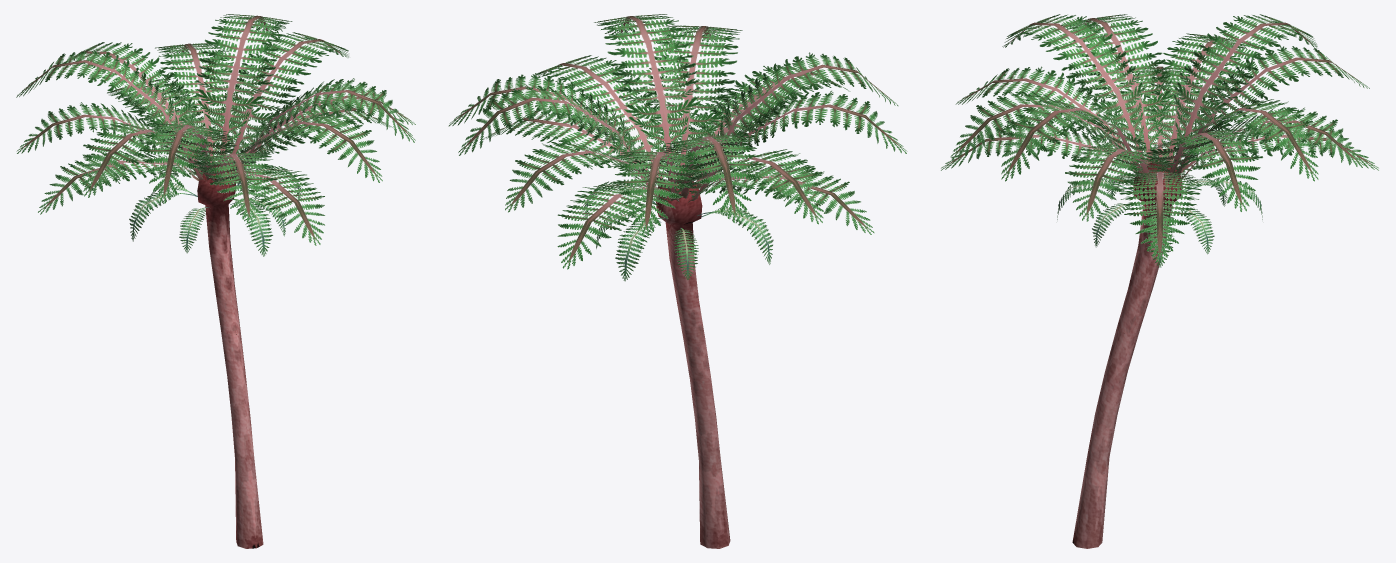
Rendered from FernTree.fbx.
The picture shows the model from 3 angles, left to right: view 1: azimuth 30°, elevation 25°; view 2: azimuth 150°, elevation 25°; view 3: azimuth 270°, elevation 25°; orthographic projection. The views are drawn at different scales.
Parts seen in each view (by area): view 1: Cube; view 2: Cube; view 3: Cube.
Part boxes in pixels (<box>): Cube: <box>16,14,415,548</box>; Cube: <box>448,14,907,548</box>; Cube: <box>941,14,1378,548</box>.
Bounding box in the file's own units: 843 × 996 × 843.
